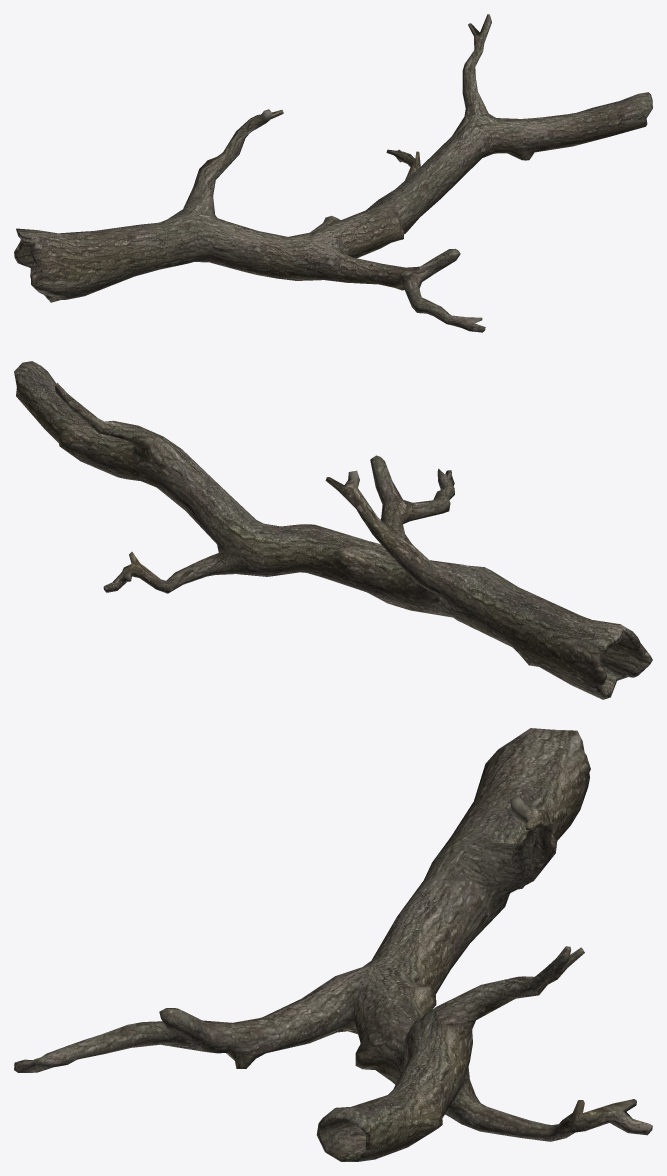
The model's file is dead_log_b.glb.
The picture shows the model from 3 angles, top to bottom: view 1: azimuth 30°, elevation 25°; view 2: azimuth 150°, elevation 25°; view 3: azimuth 270°, elevation 25°; orthographic projection. The views are drawn at different scales.
Visible parts, largest first — view 1: dead_log_b; view 2: dead_log_b; view 3: dead_log_b.
Boxes of the visible parts, x1,y1,x2,y2 form: dead_log_b: [14, 14, 652, 332]; dead_log_b: [14, 361, 652, 699]; dead_log_b: [14, 728, 652, 1161].
Bounding box in the file's own units: 5.3 × 1.47 × 3.
Materials: 1 (1 with a texture image).
